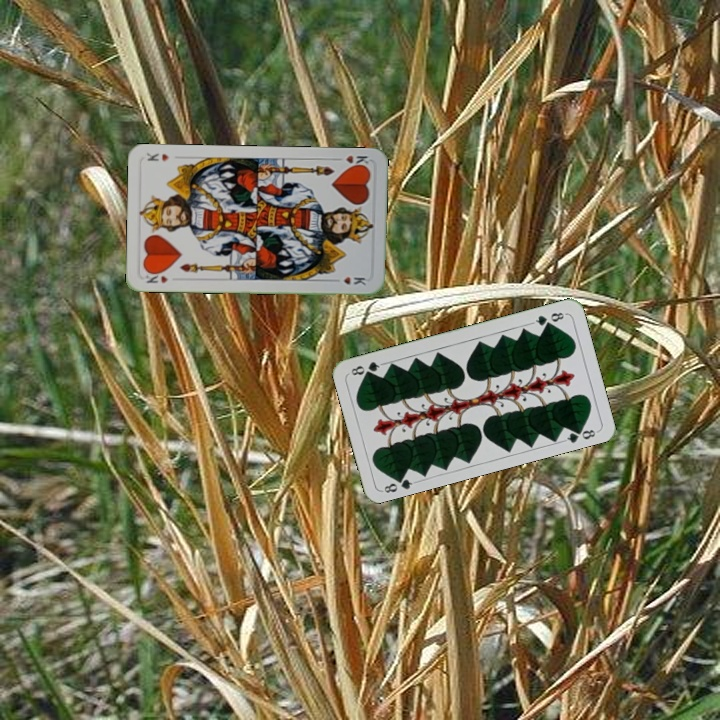G8: (378, 471, 419, 496), (528, 308, 568, 328)
HK: (331, 151, 372, 170), (141, 268, 170, 286)
